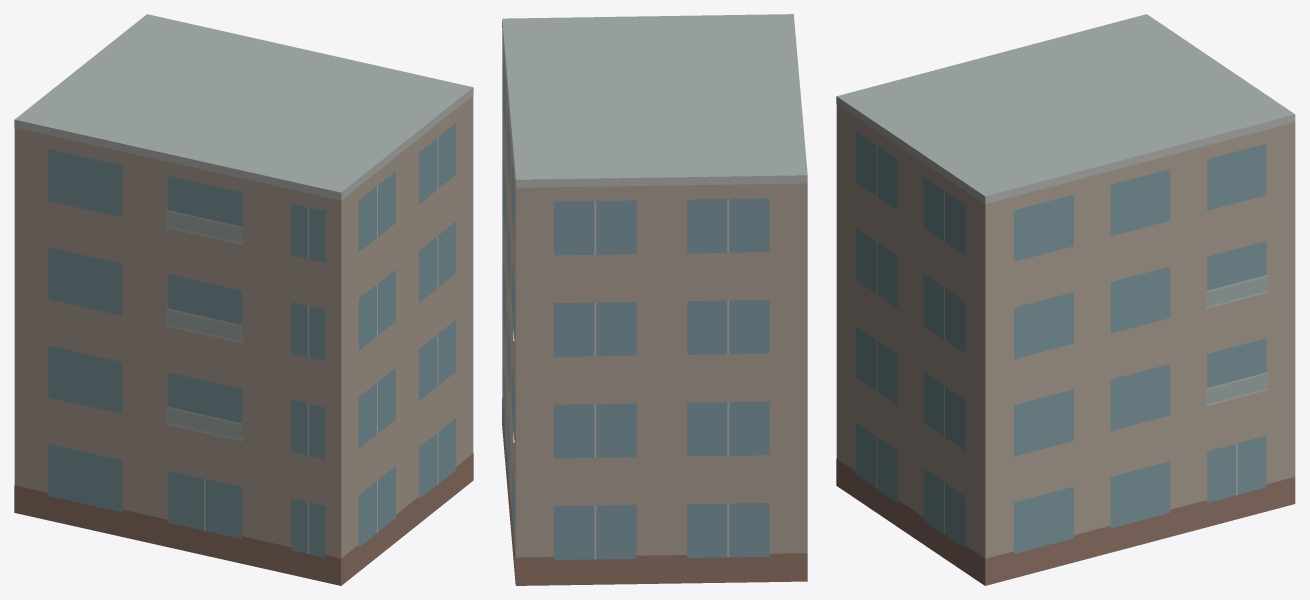
The model's file is residential-bce275ab-5fc2-423f-9428-6a3c5bc2c230.glb.
The picture shows the model from 3 angles, left to right: view 1: azimuth 30°, elevation 25°; view 2: azimuth 150°, elevation 25°; view 3: azimuth 270°, elevation 25°; orthographic projection. The views are drawn at different scales.
Parts seen in each view (by area): view 1: residential-bce275ab-5fc2-423f-9428-6a3c5bc2c230.tmp; view 2: residential-bce275ab-5fc2-423f-9428-6a3c5bc2c230.tmp; view 3: residential-bce275ab-5fc2-423f-9428-6a3c5bc2c230.tmp.
Boxes of the visible parts, x1=… form: residential-bce275ab-5fc2-423f-9428-6a3c5bc2c230.tmp: x1=14, y1=14, x2=473, y2=585; residential-bce275ab-5fc2-423f-9428-6a3c5bc2c230.tmp: x1=502, y1=14, x2=807, y2=585; residential-bce275ab-5fc2-423f-9428-6a3c5bc2c230.tmp: x1=836, y1=14, x2=1295, y2=585.
Size of the model in its own units: 12.26 by 12.2 by 13.03.
